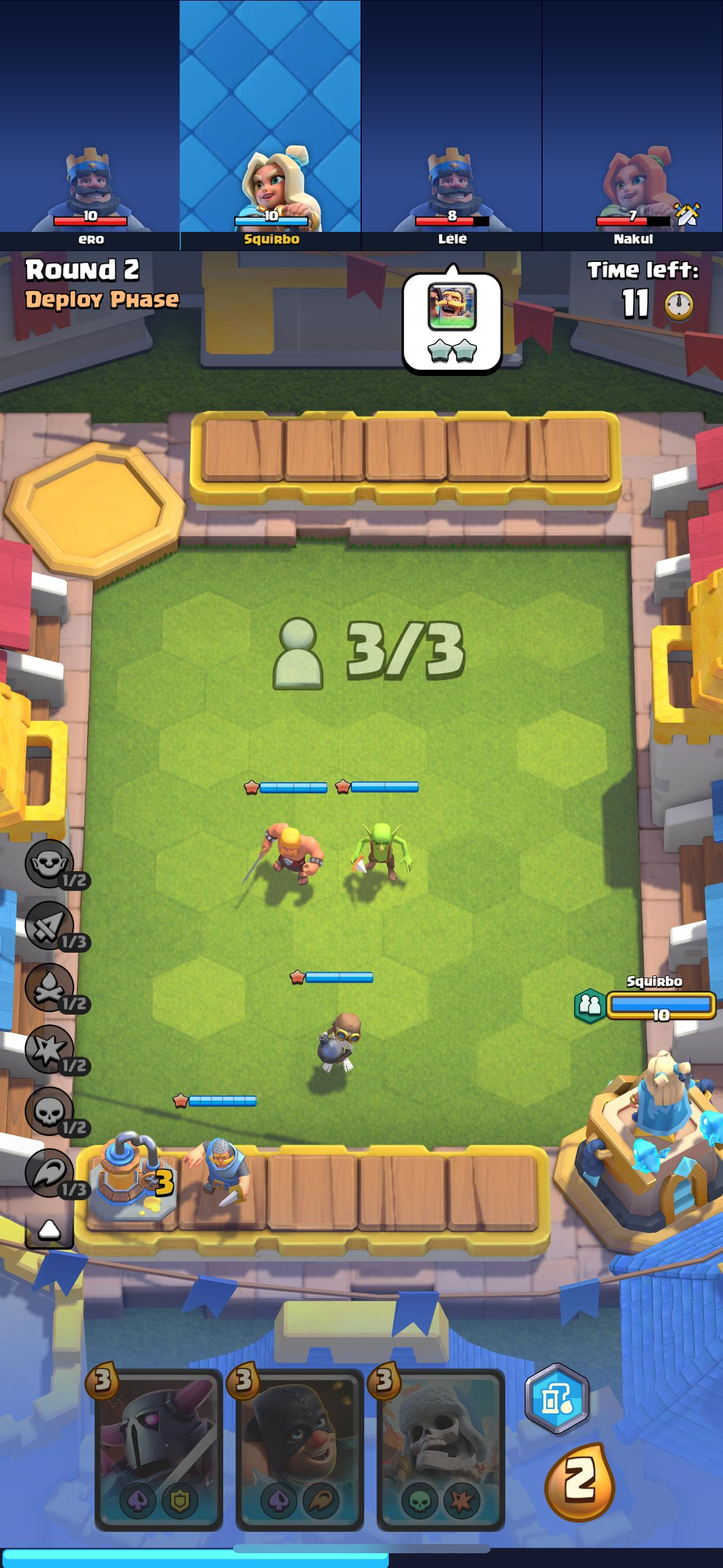barbarian: (250, 809, 322, 887)
bomber: (301, 999, 363, 1076)
collector: (85, 1136, 178, 1222)
goblin: (345, 813, 409, 883)
hand-executioner: (237, 1369, 360, 1525)
hand-giant: (383, 1373, 506, 1529)
hand-pekka: (89, 1372, 225, 1532)
knight: (199, 1126, 260, 1216)
